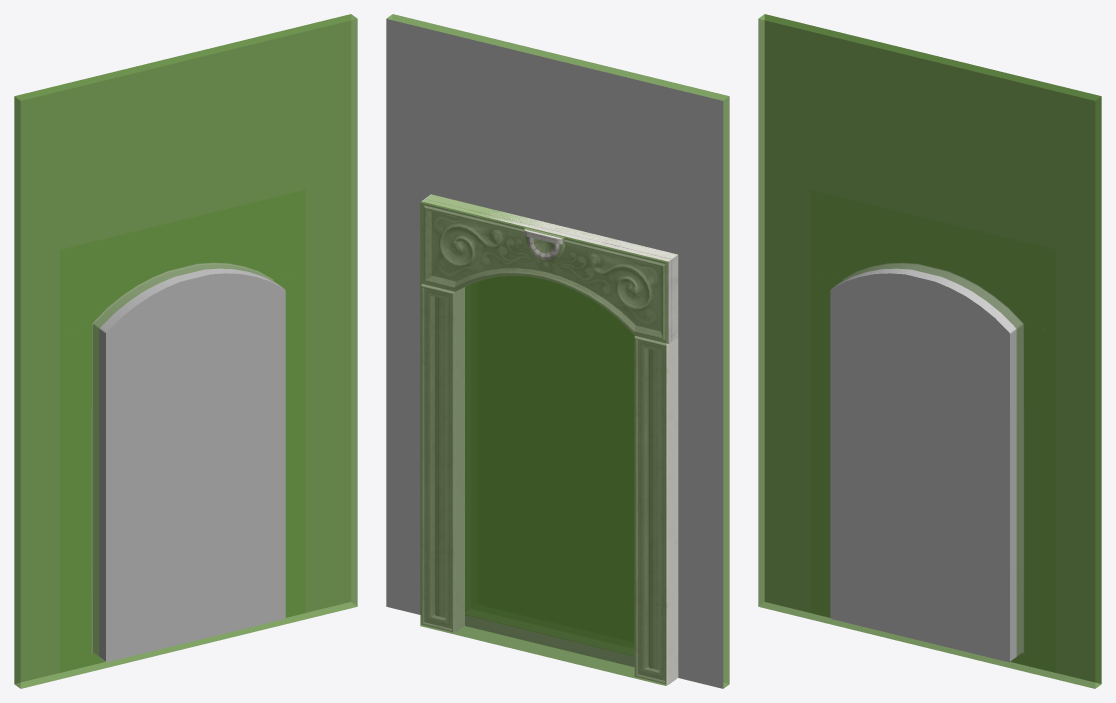
File: F4_md_Wall_5x3_WL_01.fbx
3 views of the same model, side by side, from view 1: azimuth 30°, elevation 25°; view 2: azimuth 150°, elevation 25°; view 3: azimuth 330°, elevation 25° (orthographic).
Visible parts, largest first — view 1: F4_md_Wall_5x3_WL_01_LOD0, F4_md_Wall_5x3_WL_01_col_02, F4_md_Wall_5x3_WL_01_col_01; view 2: F4_md_Wall_5x3_WL_01_LOD0, F4_md_Wall_5x3_WL_01_col_01, F4_md_Wall_5x3_WL_01_col_02; view 3: F4_md_Wall_5x3_WL_01_LOD0, F4_md_Wall_5x3_WL_01_col_02, F4_md_Wall_5x3_WL_01_col_01.
Part boxes in pixels (x1,y1,x2,y2): F4_md_Wall_5x3_WL_01_LOD0: [14, 14, 350, 683]; F4_md_Wall_5x3_WL_01_col_02: [14, 14, 357, 688]; F4_md_Wall_5x3_WL_01_col_01: [60, 190, 305, 672]; F4_md_Wall_5x3_WL_01_LOD0: [386, 19, 723, 688]; F4_md_Wall_5x3_WL_01_col_01: [420, 194, 667, 685]; F4_md_Wall_5x3_WL_01_col_02: [386, 14, 729, 688]; F4_md_Wall_5x3_WL_01_LOD0: [765, 14, 1101, 683]; F4_md_Wall_5x3_WL_01_col_02: [758, 14, 1101, 688]; F4_md_Wall_5x3_WL_01_col_01: [811, 206, 1055, 672].
Size of what is drawn, in the model's own units: 300 by 500 by 39.9.
